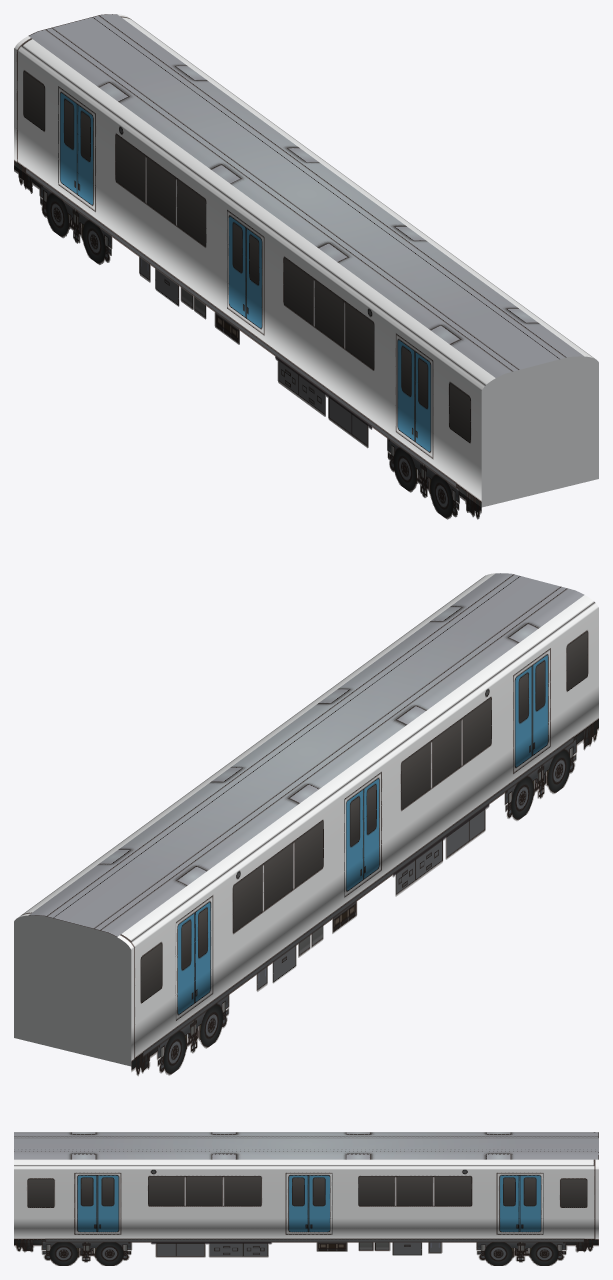
File: car5.glb
3 renders of one model, top to bottom at view 1: azimuth 30°, elevation 25°; view 2: azimuth 150°, elevation 25°; view 3: azimuth 270°, elevation 25°, orthographic. The views are drawn at different scales.
Visible parts, largest first — view 1: car5; view 2: car5; view 3: car5.
Part boxes in pixels (x1=…): car5: x1=14, y1=14, x2=598, y2=519; car5: x1=14, y1=573, x2=598, y2=1076; car5: x1=14, y1=1132, x2=598, y2=1265.
Size of the model in its own units: 2.65 by 3.59 by 18.29.
Materials: 5 (3 with a texture image).
